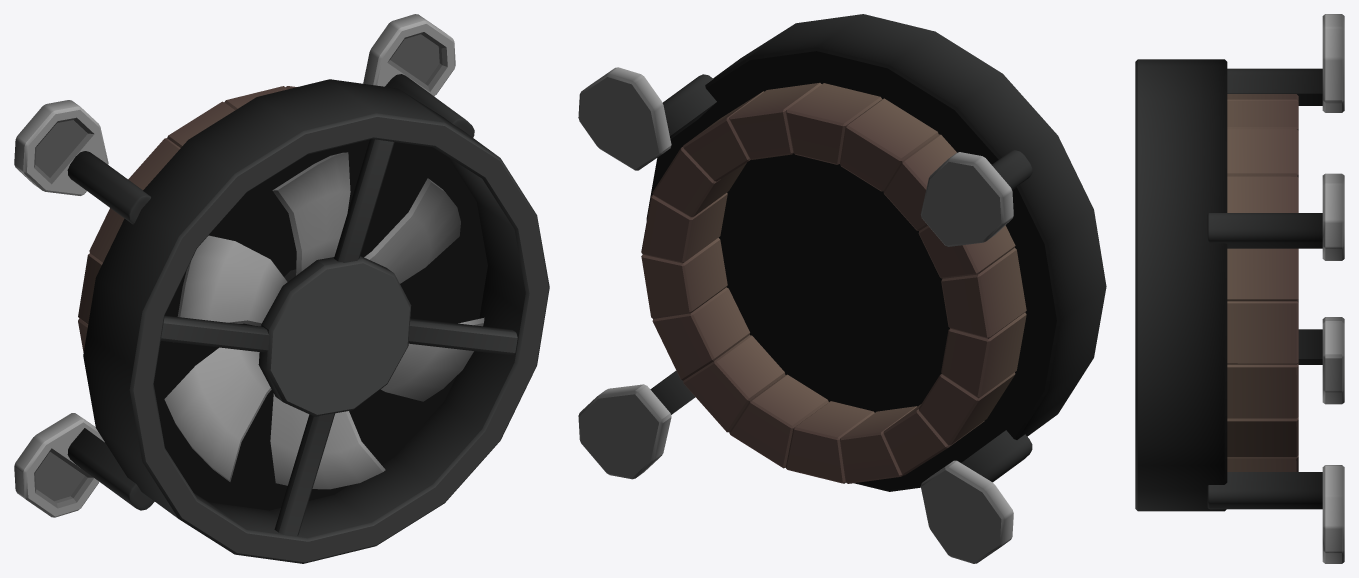
File: Cooling_systems_lvl_03_V06.fbx
The picture shows the model from 3 angles, left to right: view 1: azimuth 30°, elevation 25°; view 2: azimuth 150°, elevation 25°; view 3: azimuth 270°, elevation 25°; orthographic projection. The views are drawn at different scales.
Parts seen in each view (by area): view 1: Body_Cooling, Fan_Cooling; view 2: Body_Cooling; view 3: Body_Cooling.
Part boxes in pixels (x1,y1,x2,y2): Body_Cooling: (14, 14, 549, 563); Fan_Cooling: (164, 152, 484, 489); Body_Cooling: (578, 14, 1106, 563); Body_Cooling: (1135, 14, 1344, 563).
Bounding box in the file's own units: 47.51 × 45.43 × 21.31.
